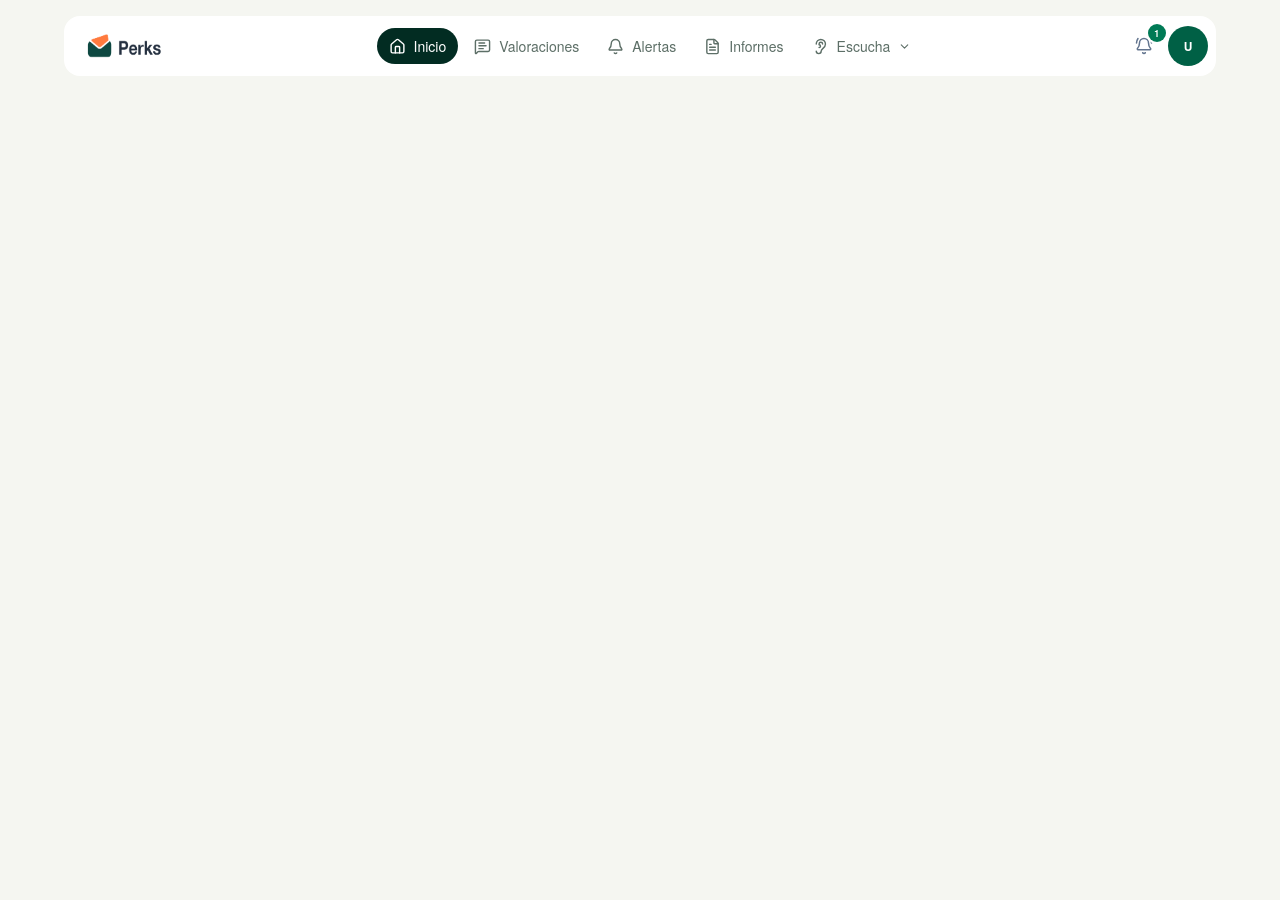
Test case: DashboardFloatingNav › abre el drawer al pulsar Ver todas
Click the button named "notificaciones".
click(1144, 46)  # box 1124,26 -> 1164,66
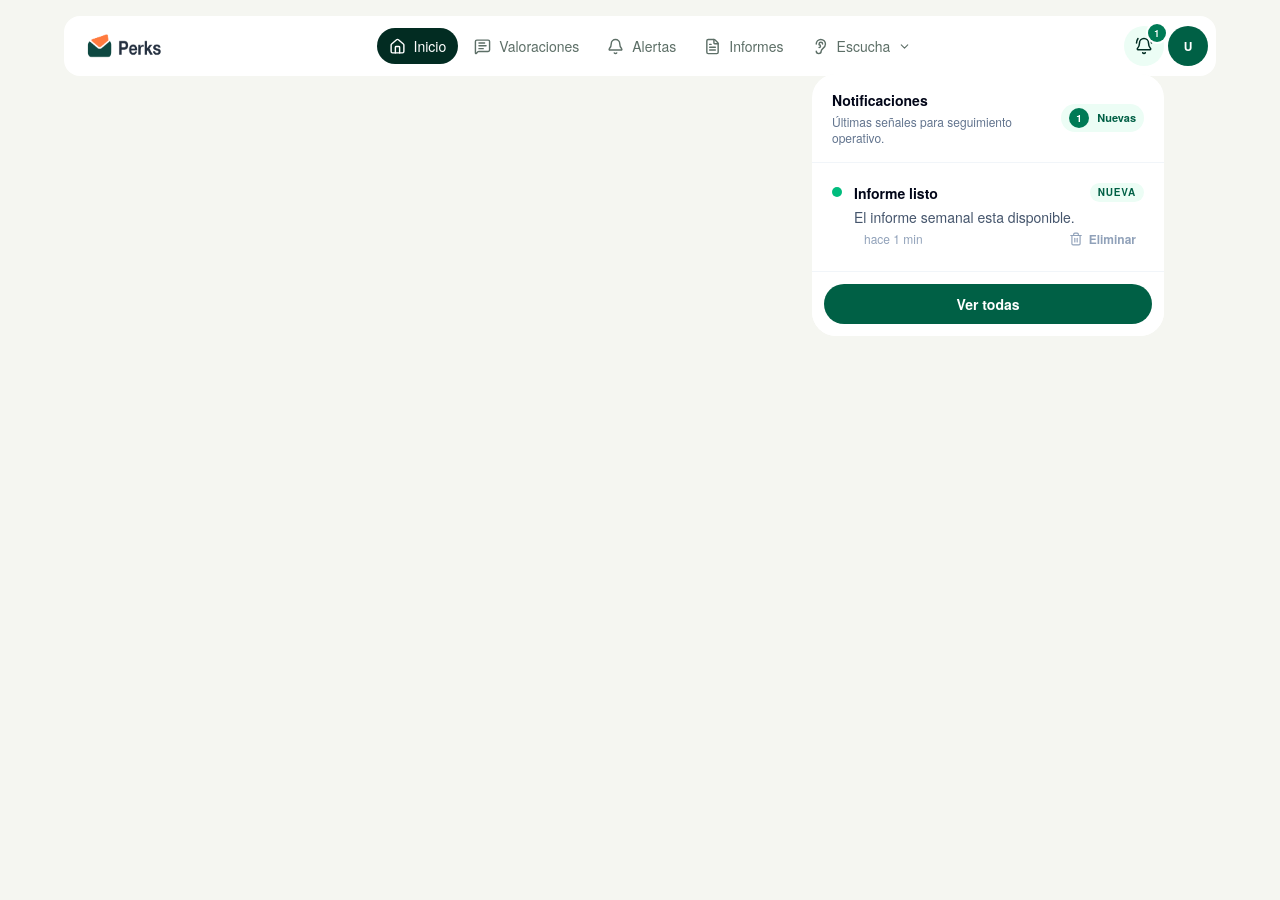
Click the button "Ver todas".
click(988, 304)  # box 824,284 -> 1152,324
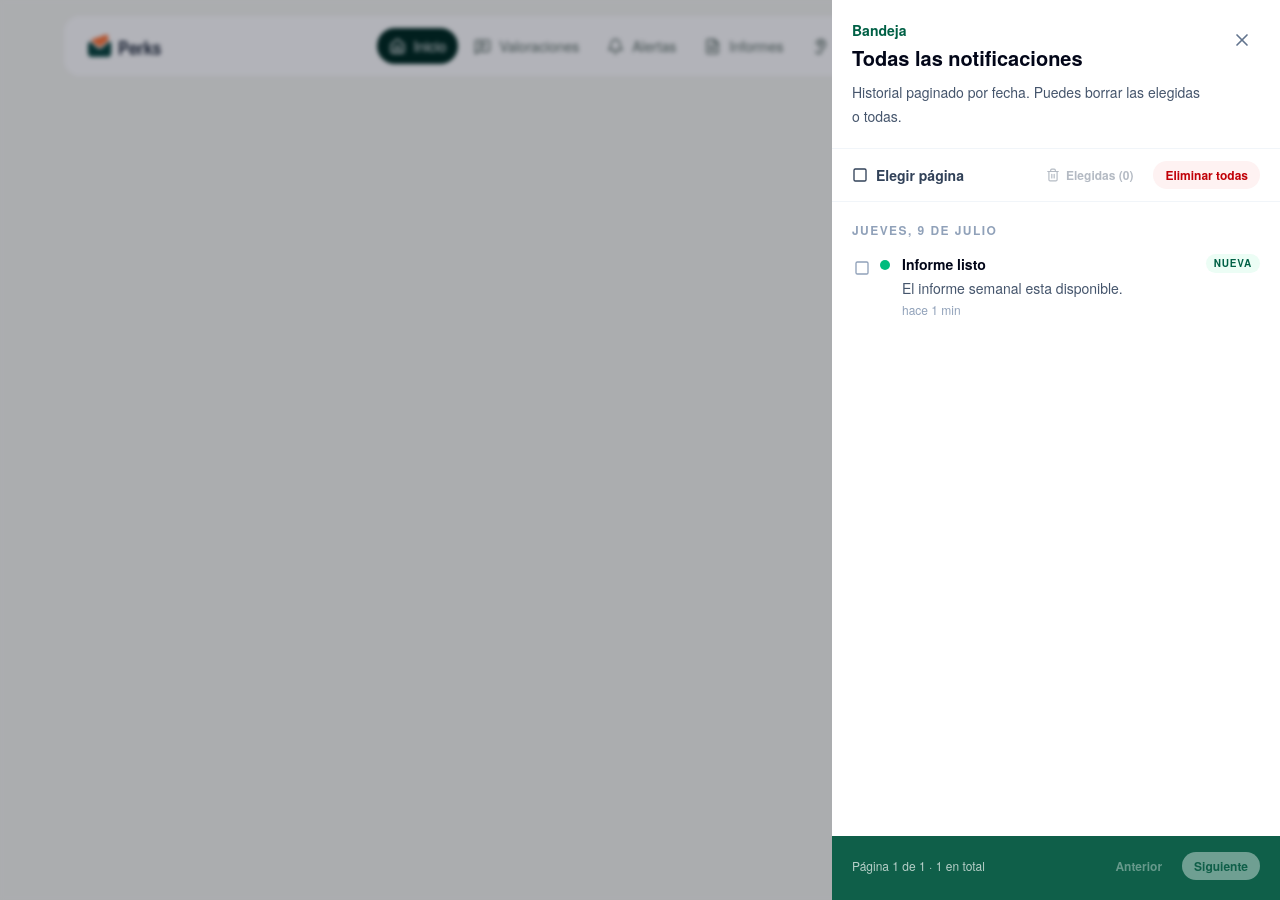
expect the heading "Todas las notificaciones" is shown: met, box 852,43 -> 1083,72
